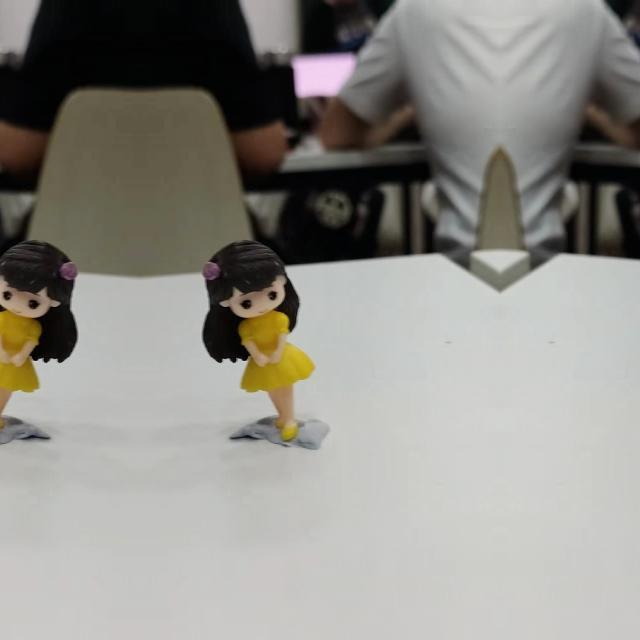woman head: (202, 236, 288, 320), (0, 236, 78, 319)
